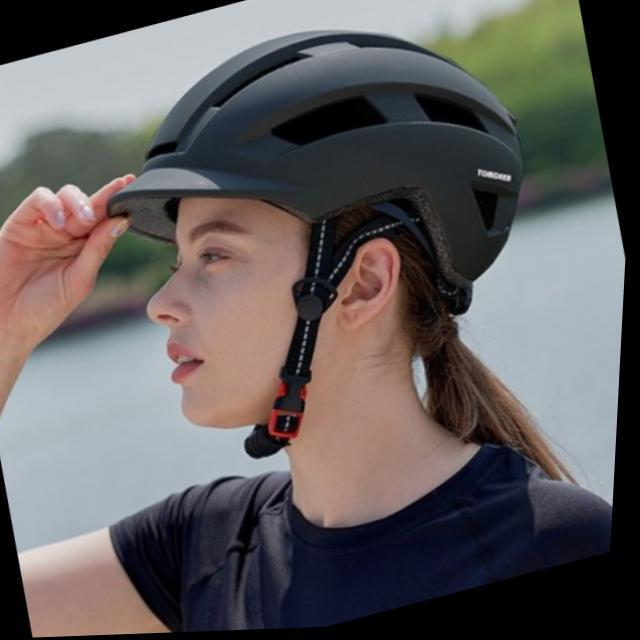Helmet: (86, 20, 529, 465)
